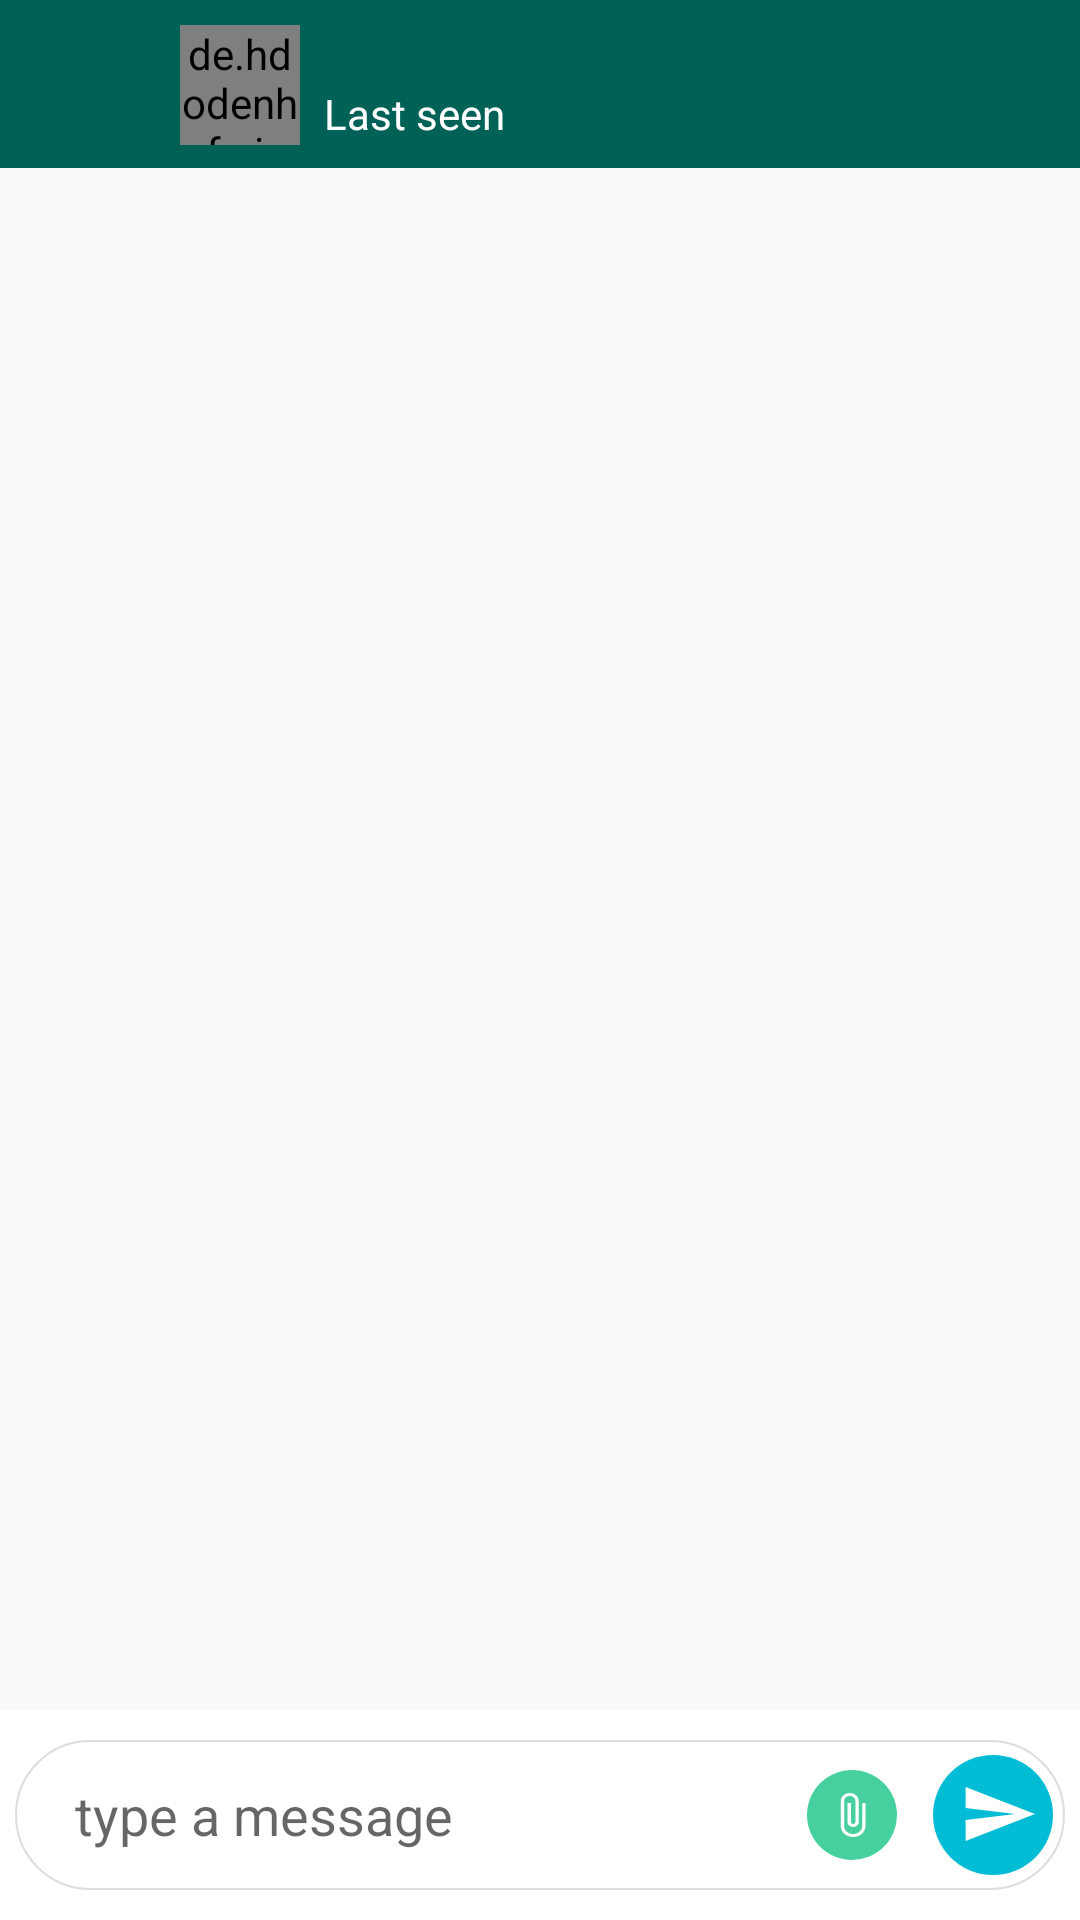

Screen size 1080w x 1920h. Icon name, then its center in pixels as (x,y):
attach file: (852,1815)
send: (993,1815)
